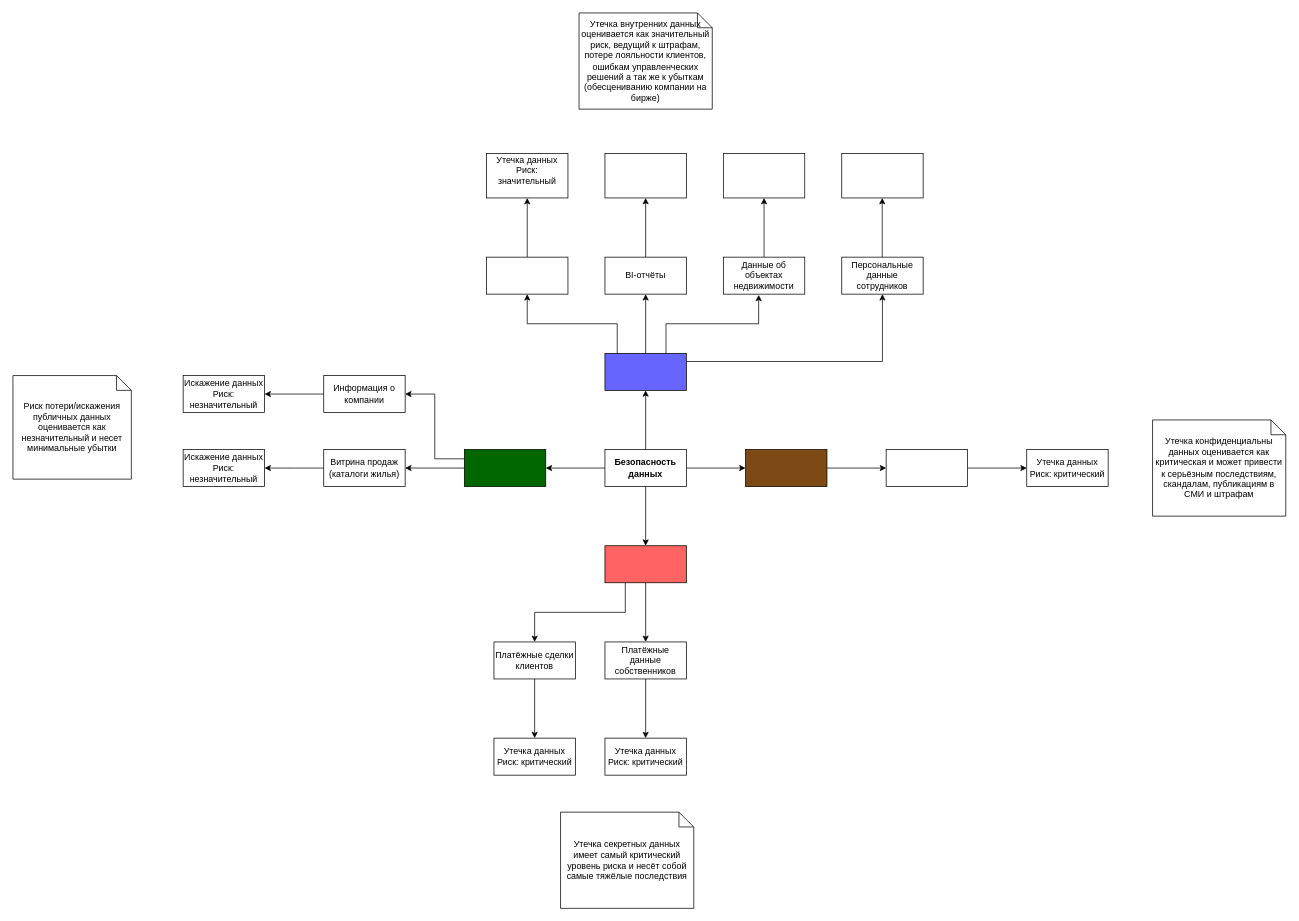
The diagram is 1299 pixels wide and 921 high, and some of its shapes have lost their labels. The box of each missing label's shape, as (x1, y1, x2, y2) in pixels:
Бухгалтерия: (486, 256, 568, 294)
Внутренние данные: (604, 353, 686, 390)
Искажение данных Риск: значительный: (723, 153, 805, 198)
Конфиденциальные данные: (745, 449, 827, 487)
Персональные данные пользователей: (885, 449, 968, 487)
Публичные данные: (464, 449, 546, 487)
Секретные данные: (604, 545, 686, 583)
Утечка данных: Риск: значительный: (841, 153, 923, 198)
Утечка/искажение данных Риск: значителньый: (604, 153, 686, 198)
